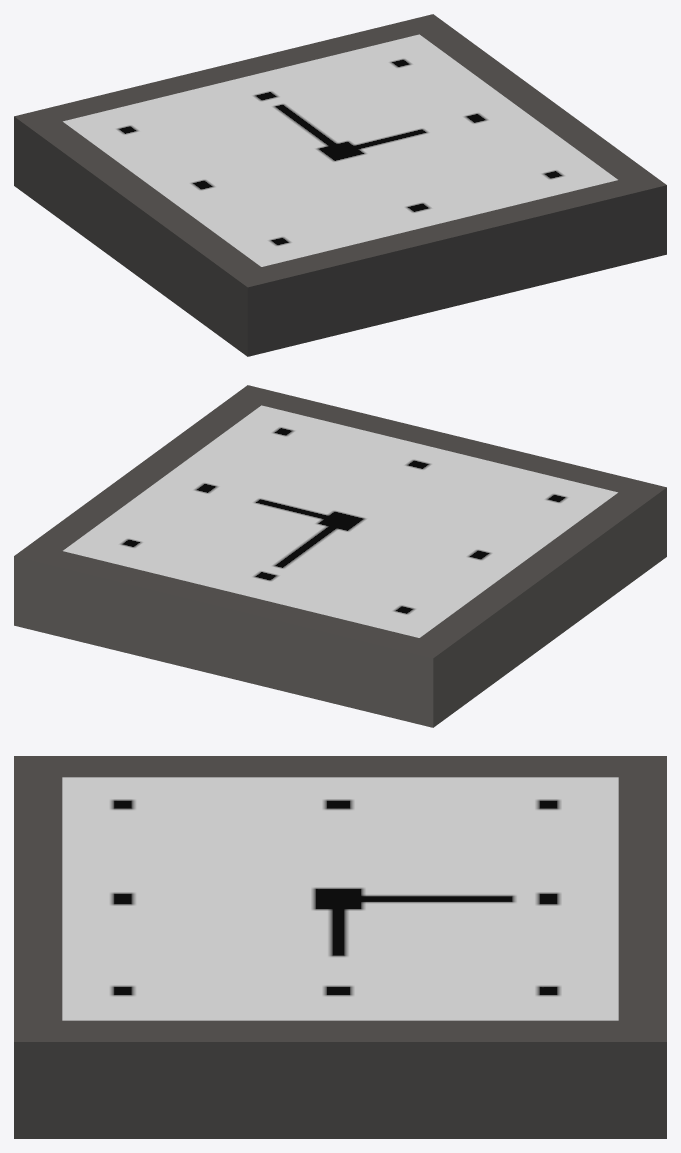
File: Clock.glb
3 views of the same model, one above another, from view 1: azimuth 30°, elevation 25°; view 2: azimuth 150°, elevation 25°; view 3: azimuth 270°, elevation 25° (orthographic). The views are drawn at different scales.
Parts seen in each view (by area): view 1: SO_Clock; view 2: SO_Clock; view 3: SO_Clock.
Part boxes in pixels (<box>): SO_Clock: <box>14,14,666,356</box>; SO_Clock: <box>14,385,666,727</box>; SO_Clock: <box>14,756,666,1138</box>.
Size of the model in its own units: 0.8007 by 0.1268 by 0.7732.
Materials: 1 (1 with a texture image).
